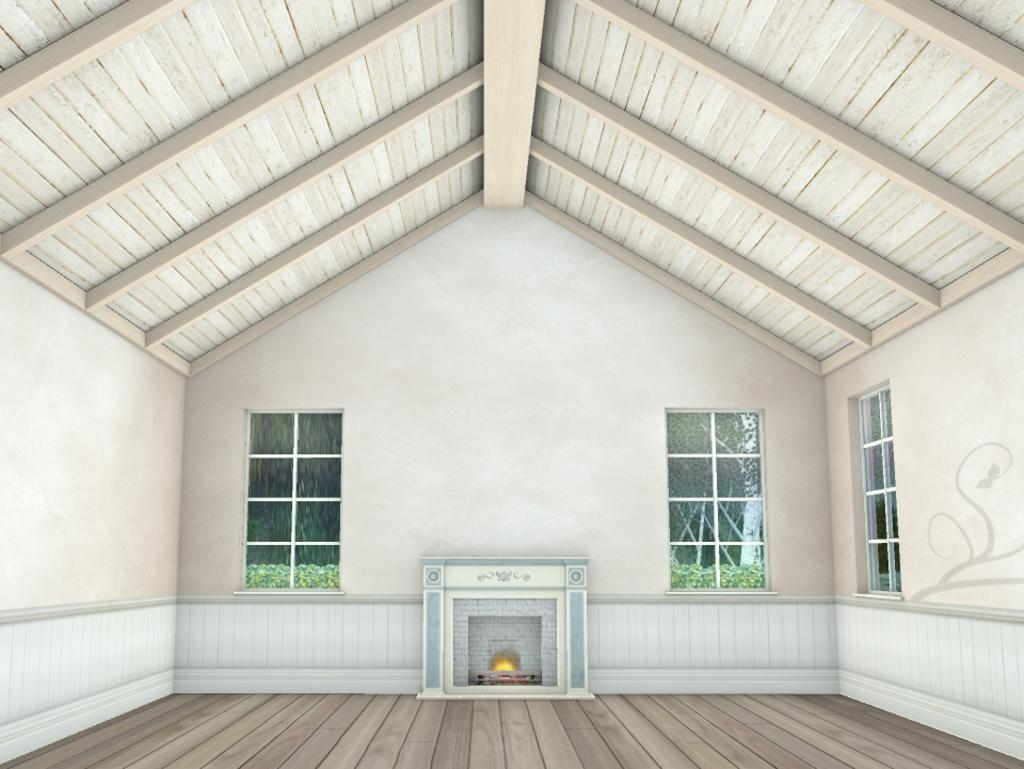Fire: (483, 641, 526, 684)
